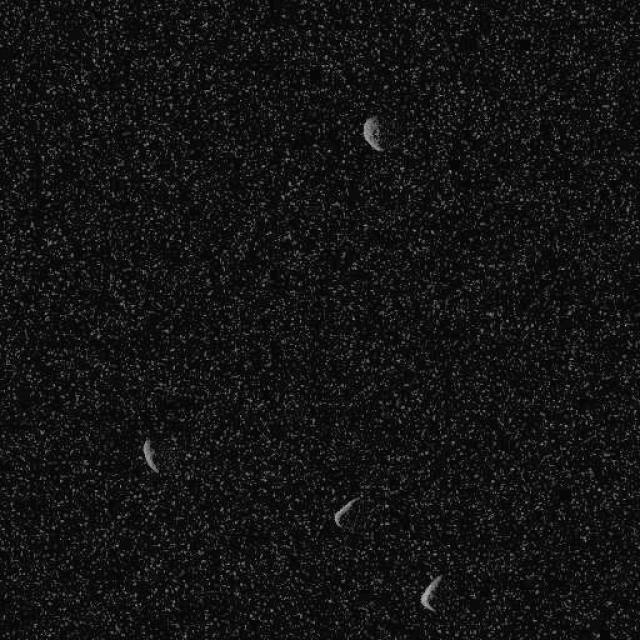D2: (332, 494, 362, 530), (361, 114, 385, 152), (418, 574, 442, 612), (140, 435, 159, 474)
